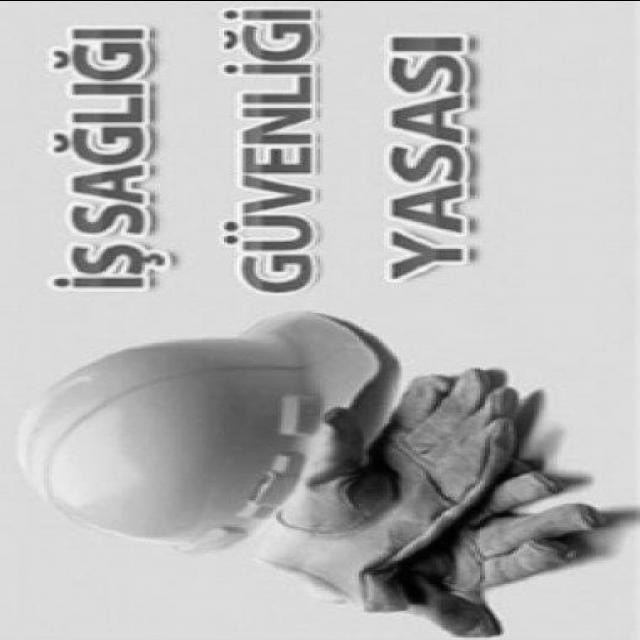safety_helmet: (17, 308, 397, 556)
